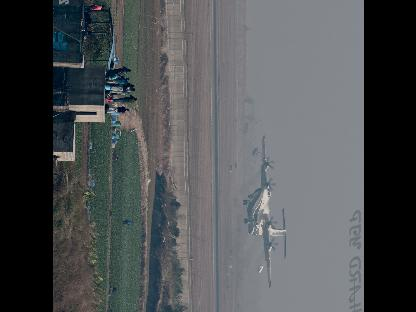AG600: (242, 136, 286, 288)
